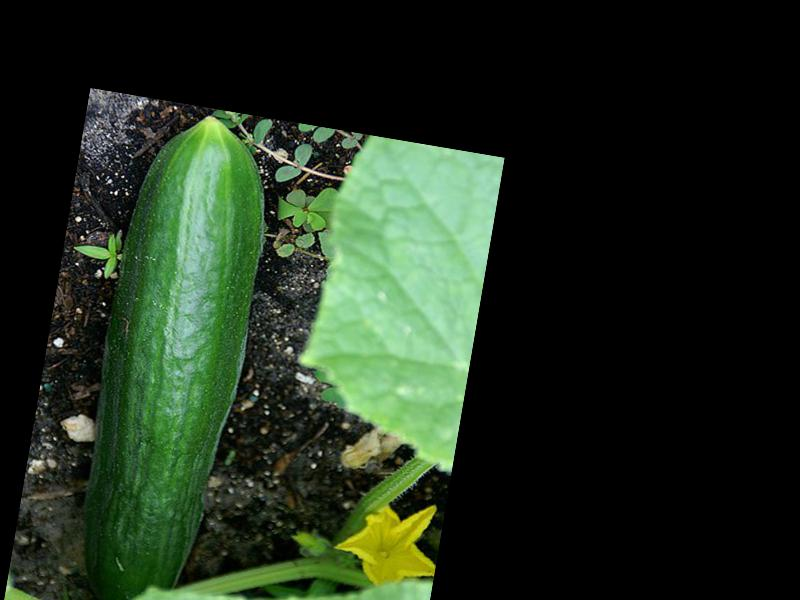Cucumber: (61, 103, 283, 600)
